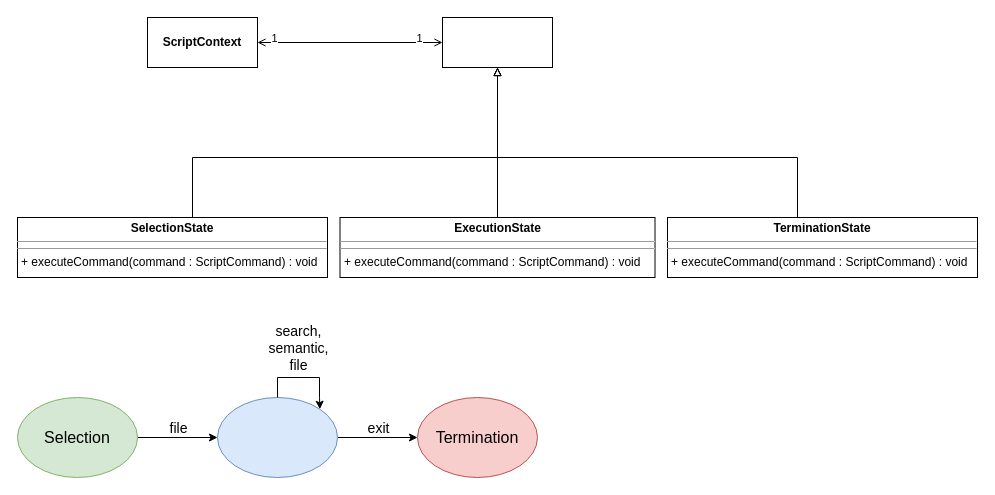
The diagram is 995 pixels wide and 495 high, and some of its shapes have lost their labels. Here are the shapes that lost their labels. From the top down, the centre of each, then its label:
At point (497, 42): "«abstract» CommandState".
At point (277, 437): "Execution".
